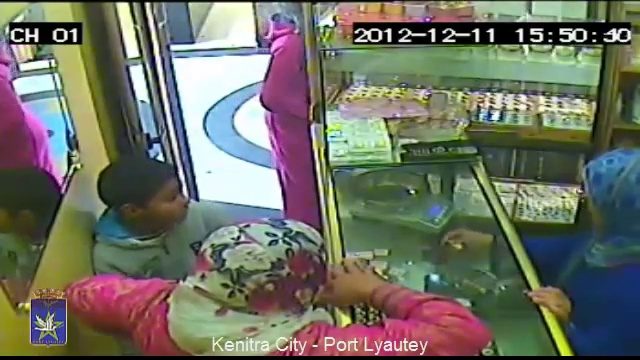face: (134, 181, 190, 228)
